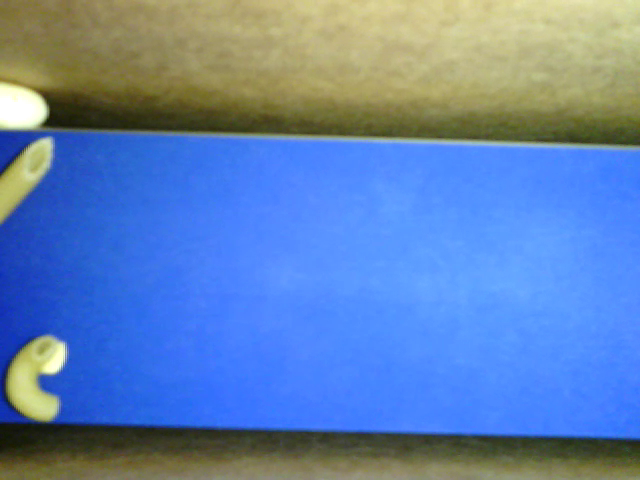elbow: (5, 335, 59, 421)
penne: (1, 136, 56, 225)
